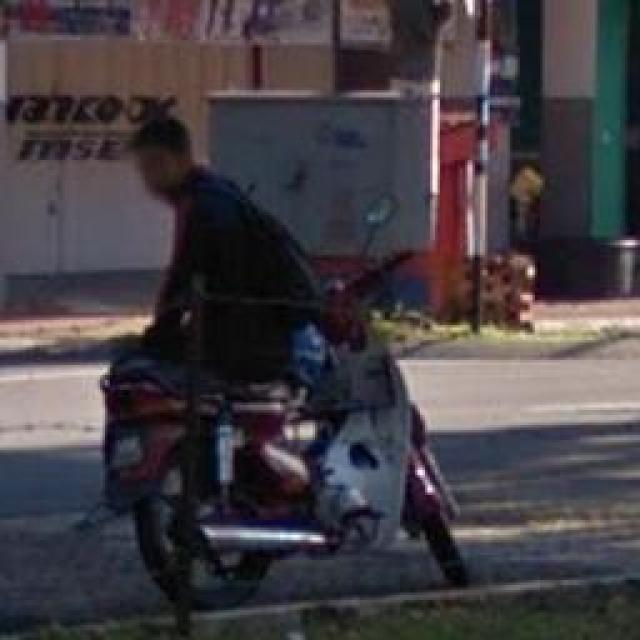motorbike: (102, 119, 469, 629)
